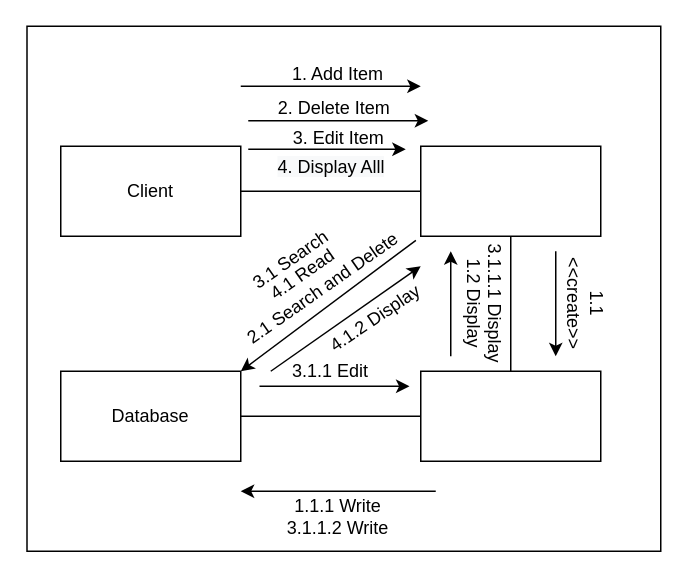
Some shapes in this 687 by 578 pixel diagram are drawn without their labels. Here are the shapes that lost their labels. From the top down, the centre of each, then its label:
At (510,190): "Interface".
At (510,415): "Item".
